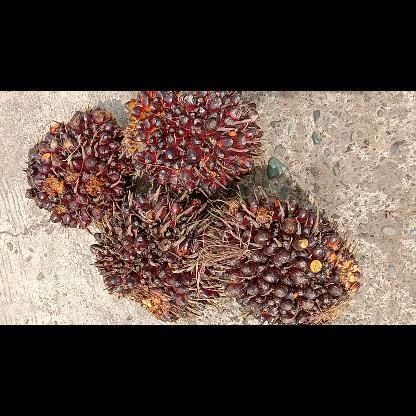Kurang masak: (203, 188, 361, 324), (88, 188, 224, 324), (122, 90, 266, 200), (23, 102, 137, 230)
